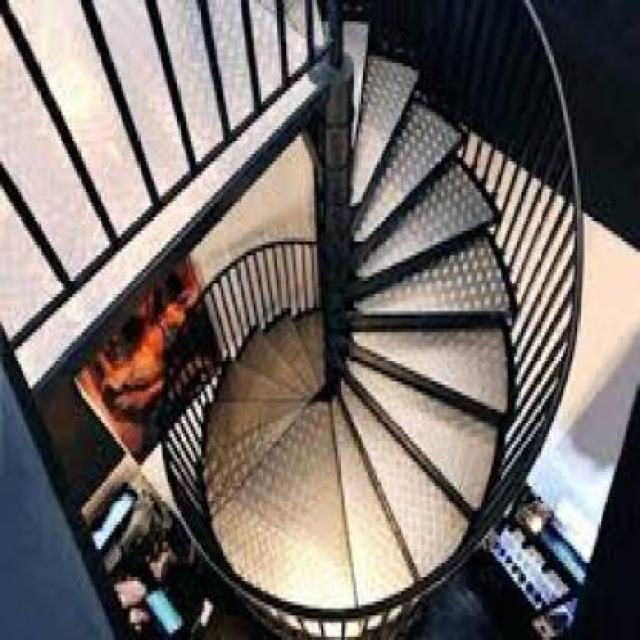stair: (140, 14, 572, 615)
